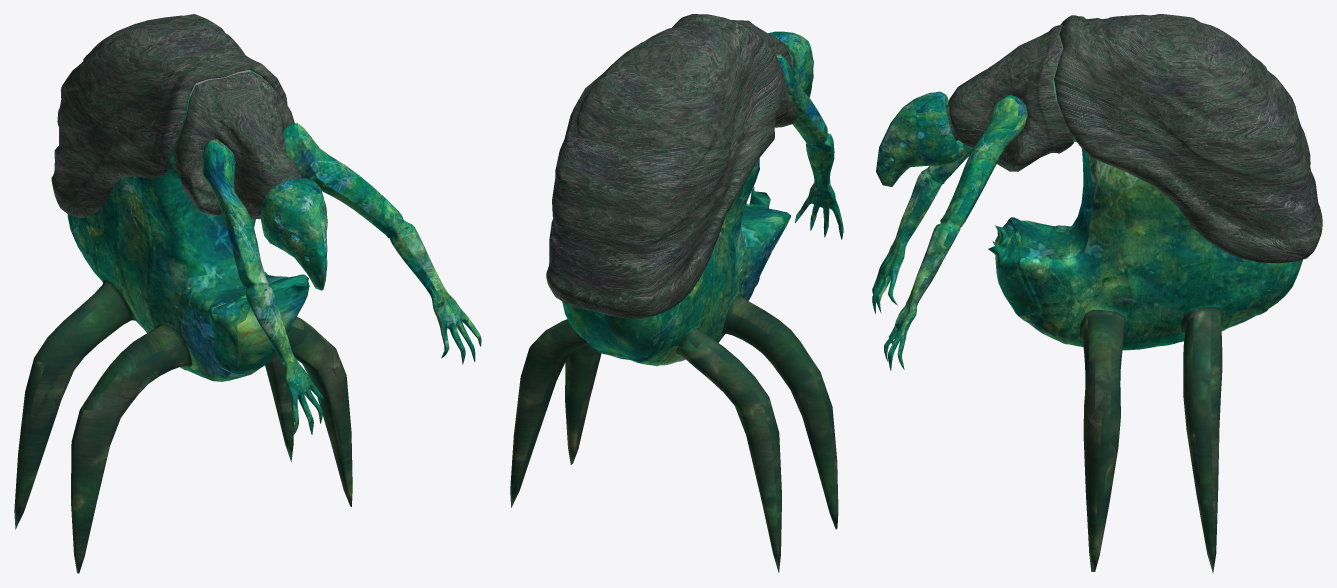
The model's file is Aranar.0017.obj.
3 views of the same model, side by side, from view 1: azimuth 30°, elevation 25°; view 2: azimuth 150°, elevation 25°; view 3: azimuth 270°, elevation 25° (orthographic). The views are drawn at different scales.
Size of the model in its own units: 2.53 by 3.85 by 3.25.
5 materials, 4 textured.
